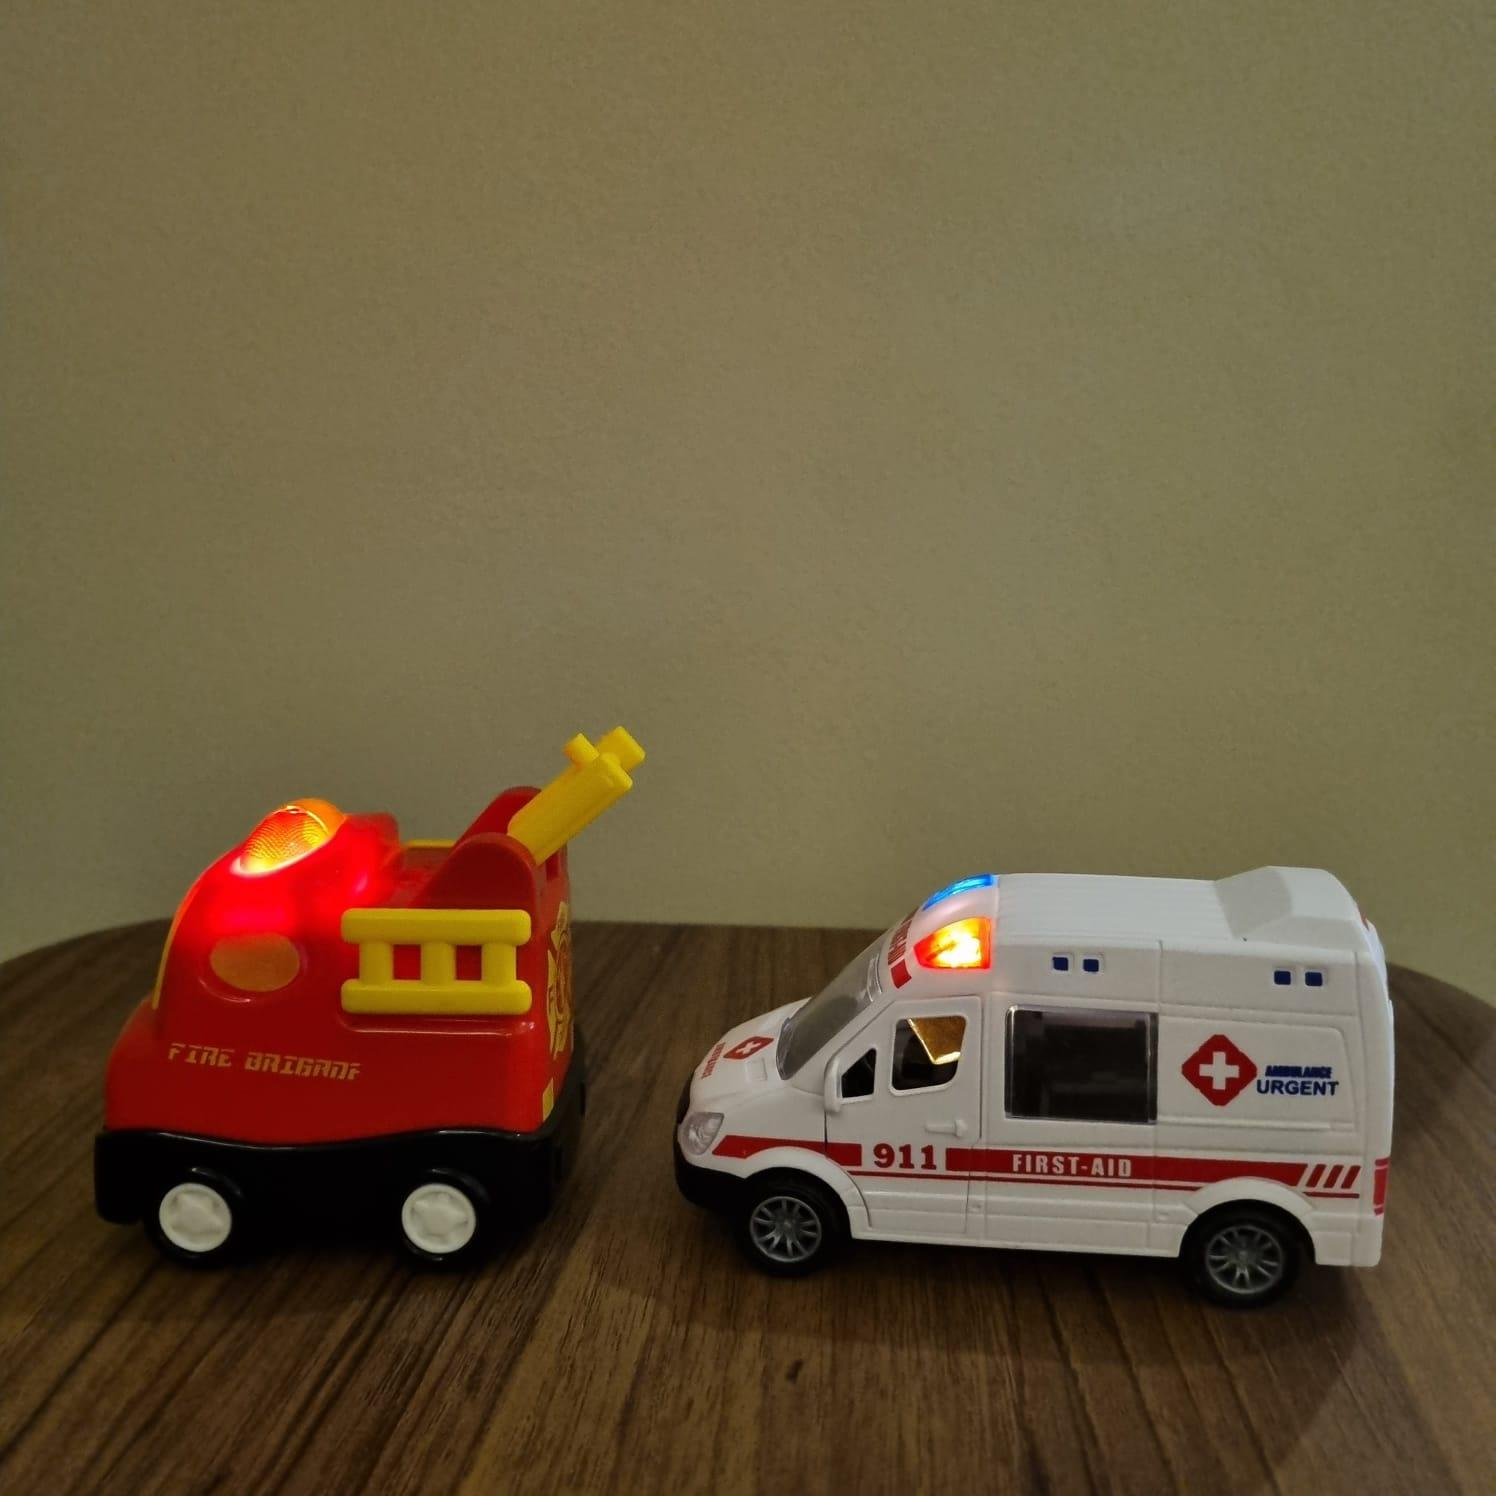ambulance_on: (678, 866, 1393, 1299)
firetruck_on: (95, 722, 647, 1266)
